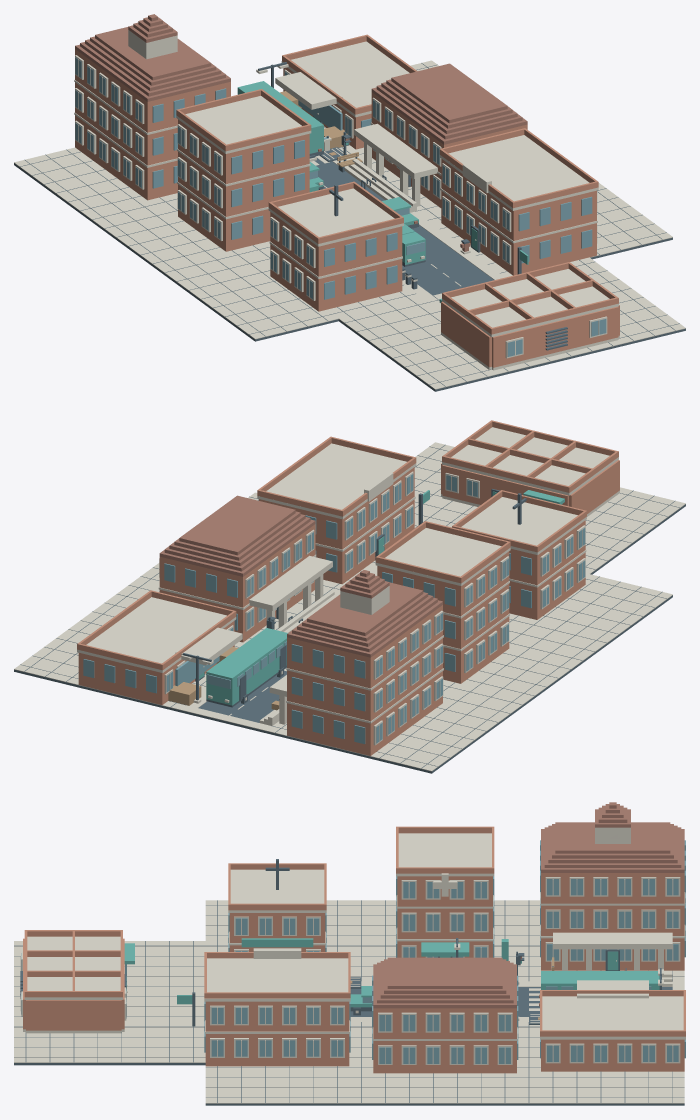
Rendered from voxel-city-districts-civic-square-scene-0d7fe62d__24930.glb.
The picture shows the model from 3 angles, top to bottom: view 1: azimuth 30°, elevation 25°; view 2: azimuth 150°, elevation 25°; view 3: azimuth 270°, elevation 25°; orthographic projection.
Parts seen in each view (by area): view 1: 027-clinic-cross/clinic-cross-brick, 030-primary-school/primary-school-brick, 029-police-station/police-station-brick, 030-primary-school/primary-school-concrete, 028-museum-portico/museum-portico-roof, 025-town-hall/town-hall-brick, 025-town-hall/town-hall-roof, 027-clinic-cross/clinic-cross-concrete, 026-branch-library/branch-library-concrete, 029-police-station/police-station-concrete, 028-museum-portico/museum-portico-concrete, 008-sidewalk-straight/sidewalk-straight-concrete (+48 smaller); view 2: 025-town-hall/town-hall-brick, 030-primary-school/primary-school-concrete, 028-museum-portico/museum-portico-roof, 026-branch-library/branch-library-concrete, 025-town-hall/town-hall-roof, 027-clinic-cross/clinic-cross-brick, 030-primary-school/primary-school-brick, 027-clinic-cross/clinic-cross-concrete, 025-town-hall/town-hall-concrete, 029-police-station/police-station-brick, 026-branch-library/branch-library-brick, 025-town-hall/town-hall-glass (+47 smaller); view 3: 030-primary-school/primary-school-concrete, 030-primary-school/primary-school-brick, 026-branch-library/branch-library-concrete, 028-museum-portico/museum-portico-roof, 025-town-hall/town-hall-roof, 025-town-hall/town-hall-brick, 025-town-hall/town-hall-concrete, 027-clinic-cross/clinic-cross-concrete, 028-museum-portico/museum-portico-brick, 027-clinic-cross/clinic-cross-brick, 026-branch-library/branch-library-brick, 029-police-station/police-station-concrete (+47 smaller).
Boxes of the visible parts, bbox=[...] form: 027-clinic-cross/clinic-cross-brick: bbox=[176, 89, 311, 251]; 030-primary-school/primary-school-brick: bbox=[439, 128, 598, 275]; 029-police-station/police-station-brick: bbox=[268, 181, 403, 311]; 030-primary-school/primary-school-concrete: bbox=[439, 135, 598, 264]; 028-museum-portico/museum-portico-roof: bbox=[371, 63, 527, 144]; 025-town-hall/town-hall-brick: bbox=[75, 49, 230, 200]; 025-town-hall/town-hall-roof: bbox=[75, 14, 230, 101]; 027-clinic-cross/clinic-cross-concrete: bbox=[176, 96, 311, 240]; 026-branch-library/branch-library-concrete: bbox=[275, 41, 409, 138]; 029-police-station/police-station-concrete: bbox=[268, 188, 403, 300]; 028-museum-portico/museum-portico-concrete: bbox=[344, 97, 441, 212]; 008-sidewalk-straight/sidewalk-straight-concrete: bbox=[158, 248, 281, 303]; 025-town-hall/town-hall-brick: bbox=[287, 605, 442, 755]; 030-primary-school/primary-school-concrete: bbox=[257, 443, 416, 573]; 028-museum-portico/museum-portico-roof: bbox=[159, 495, 315, 576]; 026-branch-library/branch-library-concrete: bbox=[77, 597, 242, 694]; 025-town-hall/town-hall-roof: bbox=[287, 570, 442, 657]; 027-clinic-cross/clinic-cross-brick: bbox=[375, 521, 510, 683]; 030-primary-school/primary-school-brick: bbox=[257, 436, 416, 584]; 027-clinic-cross/clinic-cross-concrete: bbox=[375, 528, 510, 673]; 025-town-hall/town-hall-concrete: bbox=[259, 586, 443, 745]; 029-police-station/police-station-brick: bbox=[452, 490, 586, 619]; 026-branch-library/branch-library-brick: bbox=[77, 590, 236, 704]; 025-town-hall/town-hall-glass: bbox=[291, 613, 442, 744]; 030-primary-school/primary-school-concrete: bbox=[204, 948, 350, 1057]; 030-primary-school/primary-school-brick: bbox=[204, 952, 350, 1066]; 026-branch-library/branch-library-concrete: bbox=[540, 980, 685, 1063]; 028-museum-portico/museum-portico-roof: bbox=[373, 957, 516, 1008]; 025-town-hall/town-hall-roof: bbox=[541, 802, 684, 872]; 025-town-hall/town-hall-brick: bbox=[541, 873, 684, 970]; 025-town-hall/town-hall-concrete: bbox=[540, 827, 685, 986]; 027-clinic-cross/clinic-cross-concrete: bbox=[396, 833, 494, 957]; 028-museum-portico/museum-portico-brick: bbox=[373, 1008, 516, 1073]; 027-clinic-cross/clinic-cross-brick: bbox=[396, 826, 494, 957]; 026-branch-library/branch-library-brick: bbox=[540, 990, 685, 1071]; 029-police-station/police-station-concrete: bbox=[228, 869, 326, 951].
Bounding box in the file's own units: 40 × 13.75 × 56.1.
